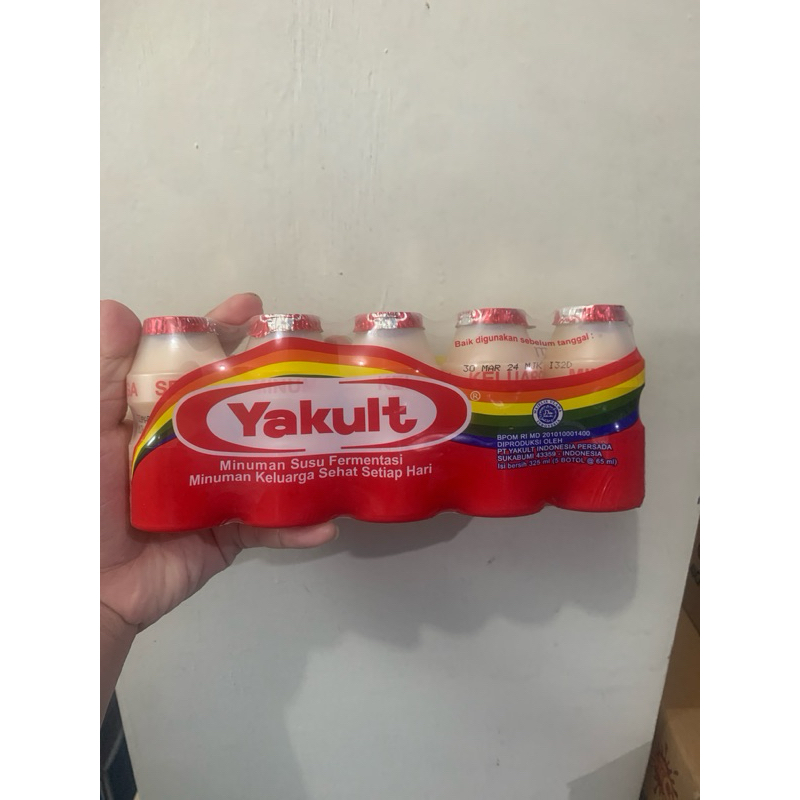Yakult (325ml): (116, 302, 666, 518)
